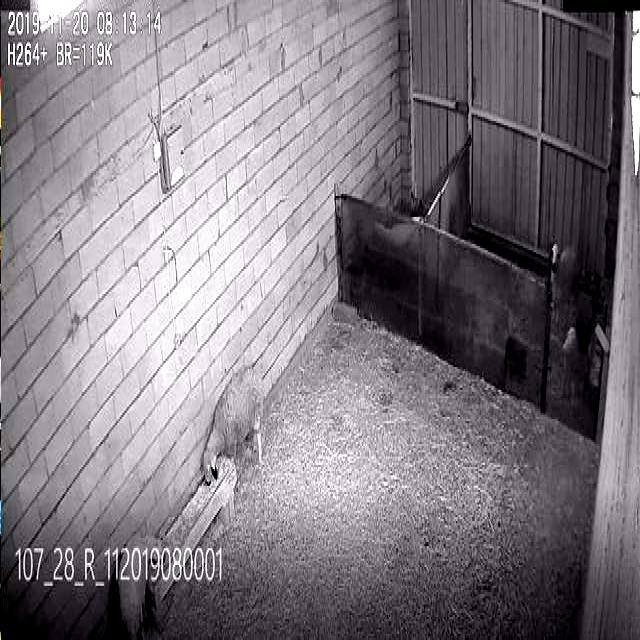sheep: (203, 362, 263, 479)
